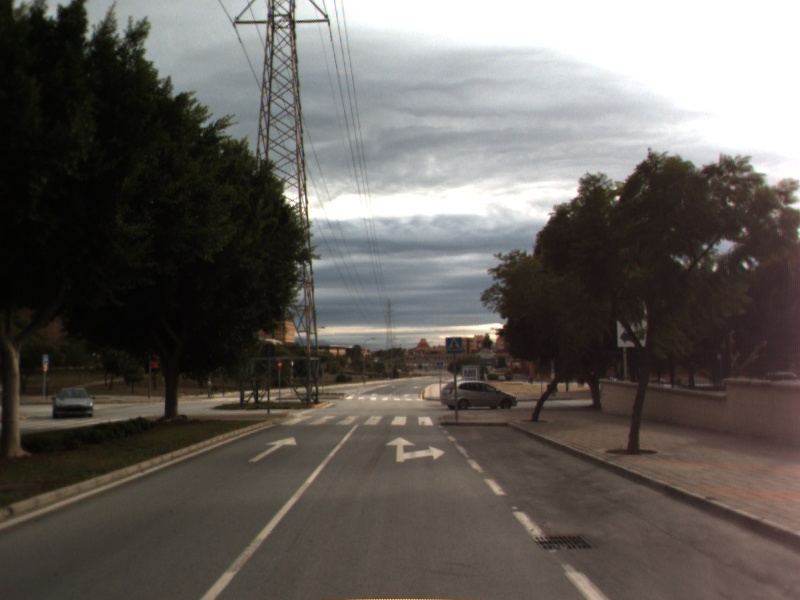STRAIGHT: (246, 434, 299, 464)
STRAIGHT_RIGHT: (383, 434, 447, 464)
